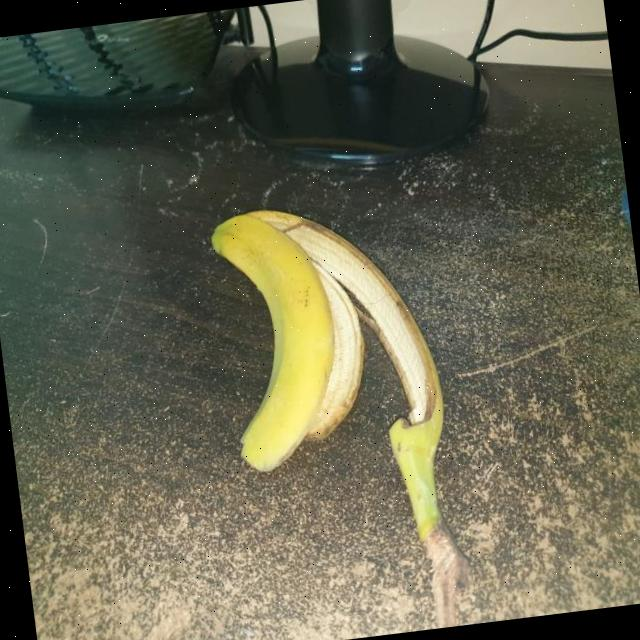banana-peel: (205, 186, 477, 640), (206, 202, 350, 476)
